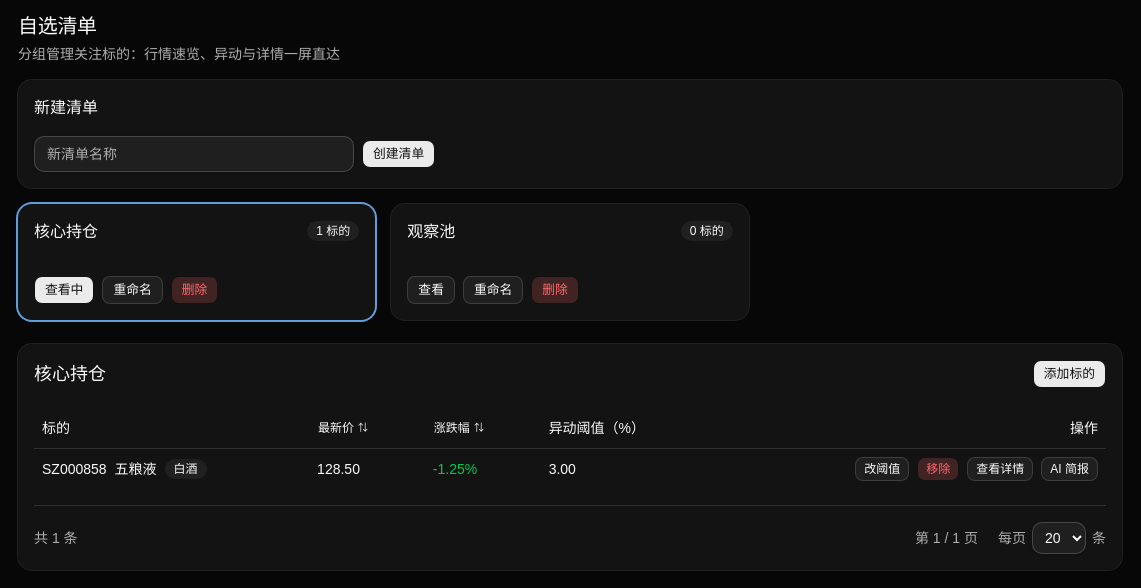
Test: Watchlist 管理页 › 创建清单成功后列表刷新出现新卡片
Expected: the row with test id "watchlist-item-row-10" is shown, [34, 448, 1106, 488]
Type "新清单" into the field with test id "watchlist-create-name".
click(194, 154); type("新清单")  # box [34, 136, 354, 172]
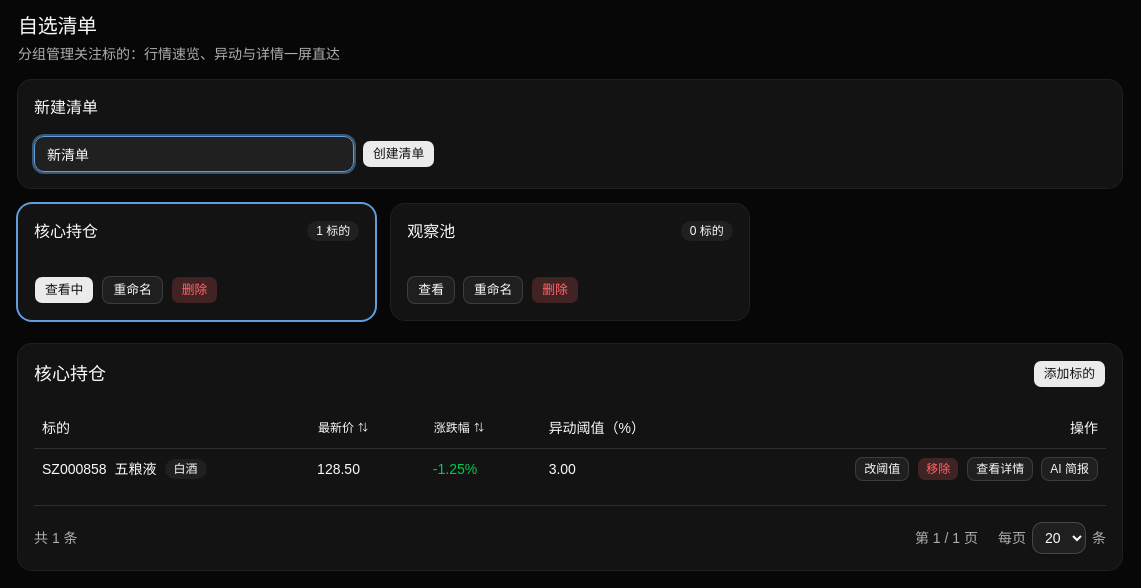
Click the button with test id "watchlist-create-submit".
click(399, 154)  # box [362, 140, 435, 168]
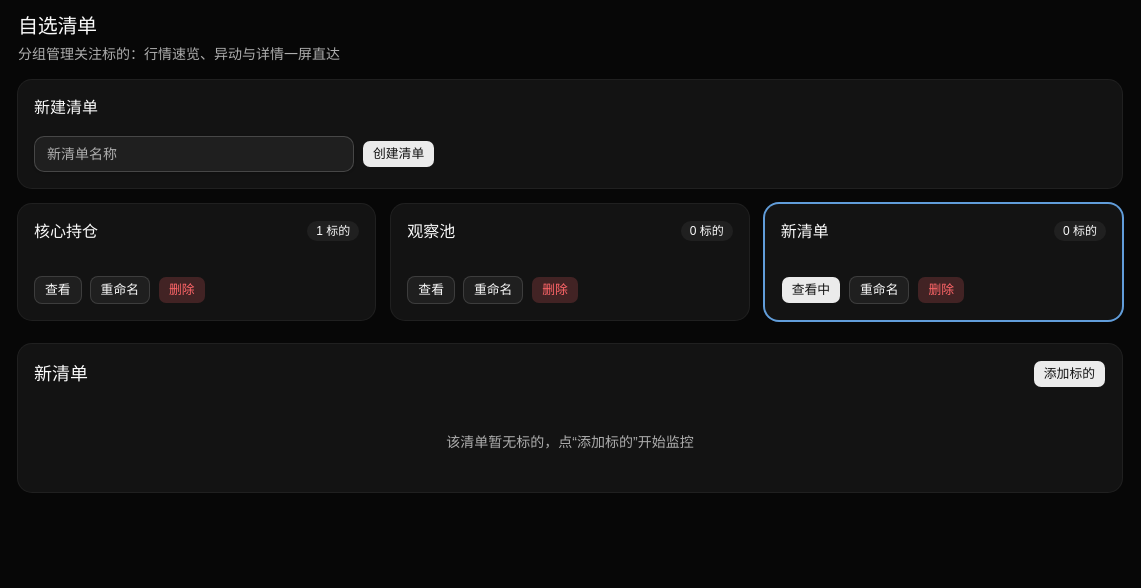
Expected: the text with test id "watchlist-detail-name" reads "新清单", [34, 364, 88, 384]
